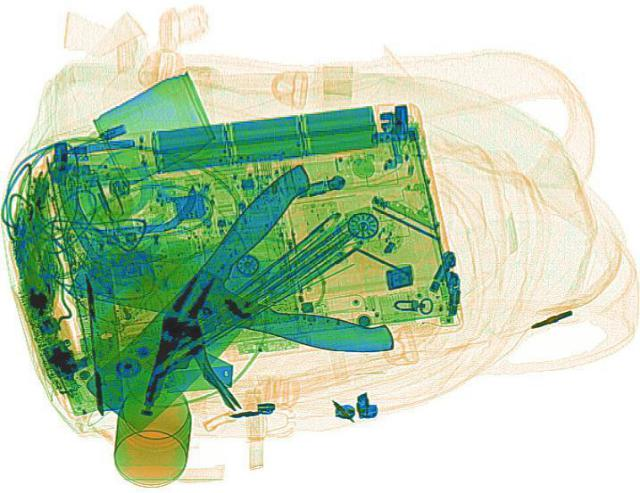Knife: (64, 161, 370, 432), (64, 217, 416, 358)
